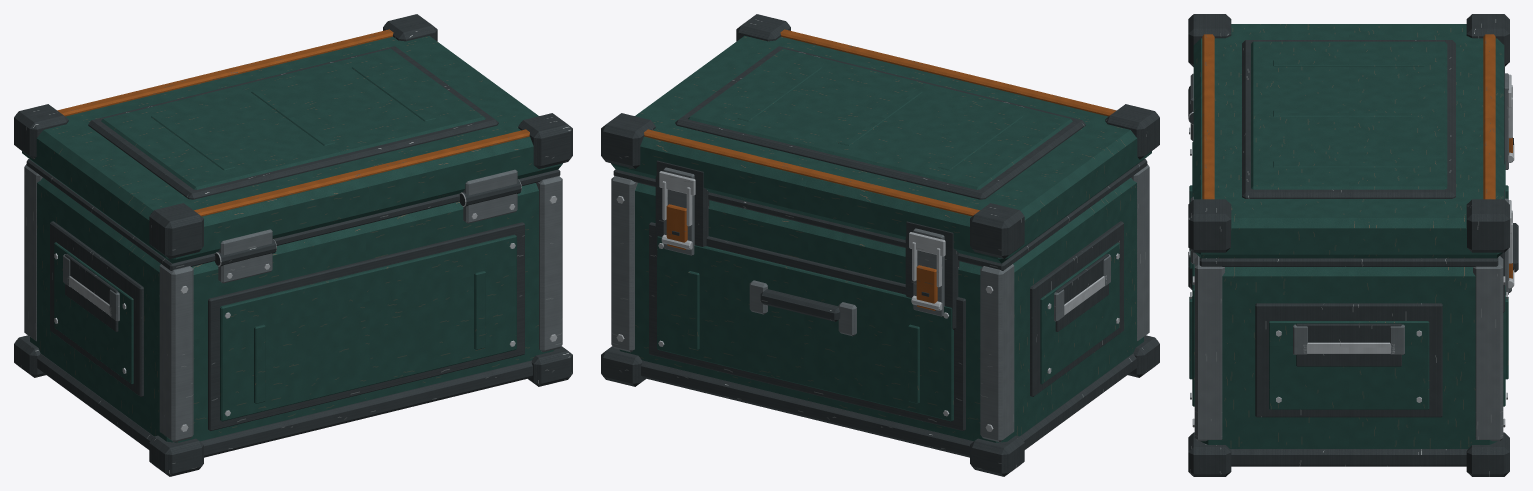
The model's file is item_box.glb.
The picture shows the model from 3 angles, left to right: view 1: azimuth 30°, elevation 25°; view 2: azimuth 150°, elevation 25°; view 3: azimuth 270°, elevation 25°; orthographic projection. The views are drawn at different scales.
Visible parts, largest first — view 1: item_box; view 2: item_box; view 3: item_box.
Part boxes in pixels (left/top/right/bottom): item_box: left=14, top=14, right=572, bottom=476; item_box: left=601, top=14, right=1159, bottom=476; item_box: left=1188, top=14, right=1518, bottom=476.
Size of the model in its own units: 1 by 0.6 by 0.6815.
5 materials, 5 textured.
